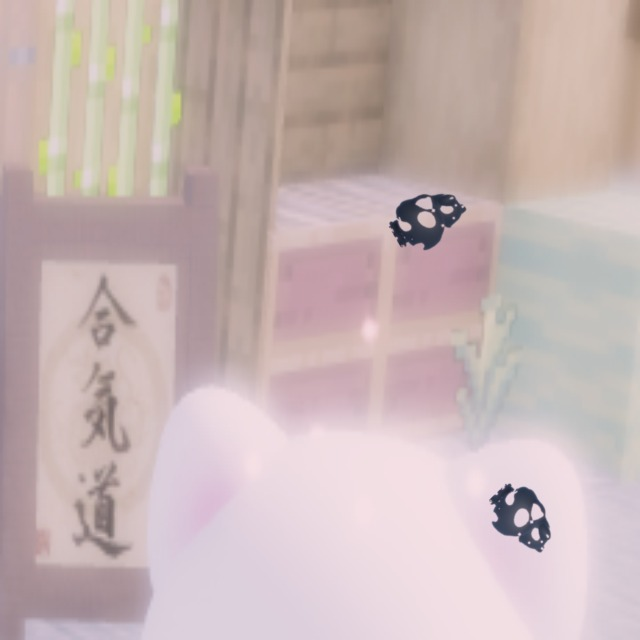urso_preto: (474, 472, 573, 571), (380, 171, 482, 266)
